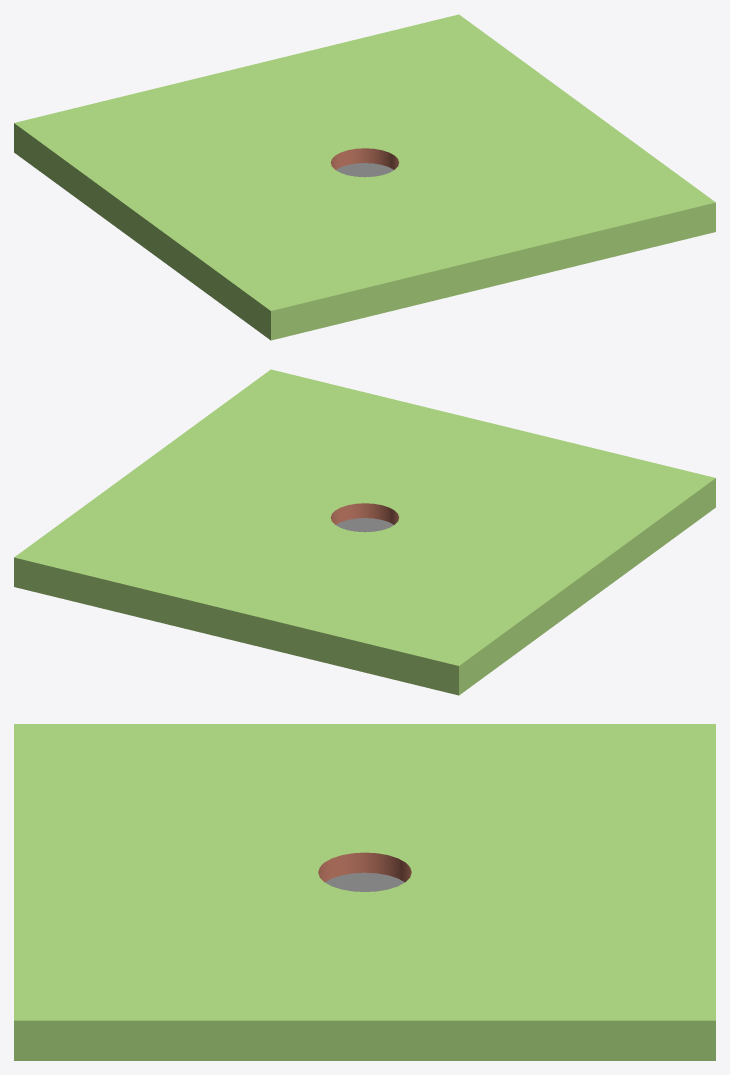
Rendered from Hole_open_01.glb.
3 renders of one model, top to bottom at view 1: azimuth 30°, elevation 25°; view 2: azimuth 150°, elevation 25°; view 3: azimuth 270°, elevation 25°, orthographic. The views are drawn at different scales.
Parts seen in each view (by area): view 1: Mesh1 Hole_open Model; view 2: Mesh1 Hole_open Model; view 3: Mesh1 Hole_open Model.
Boxes of the visible parts, <box> form: Mesh1 Hole_open Model: <box>14,14,715,340</box>; Mesh1 Hole_open Model: <box>14,369,715,695</box>; Mesh1 Hole_open Model: <box>14,724,715,1060</box>.
Size of the model in its own units: 3 by 0.19 by 3.
